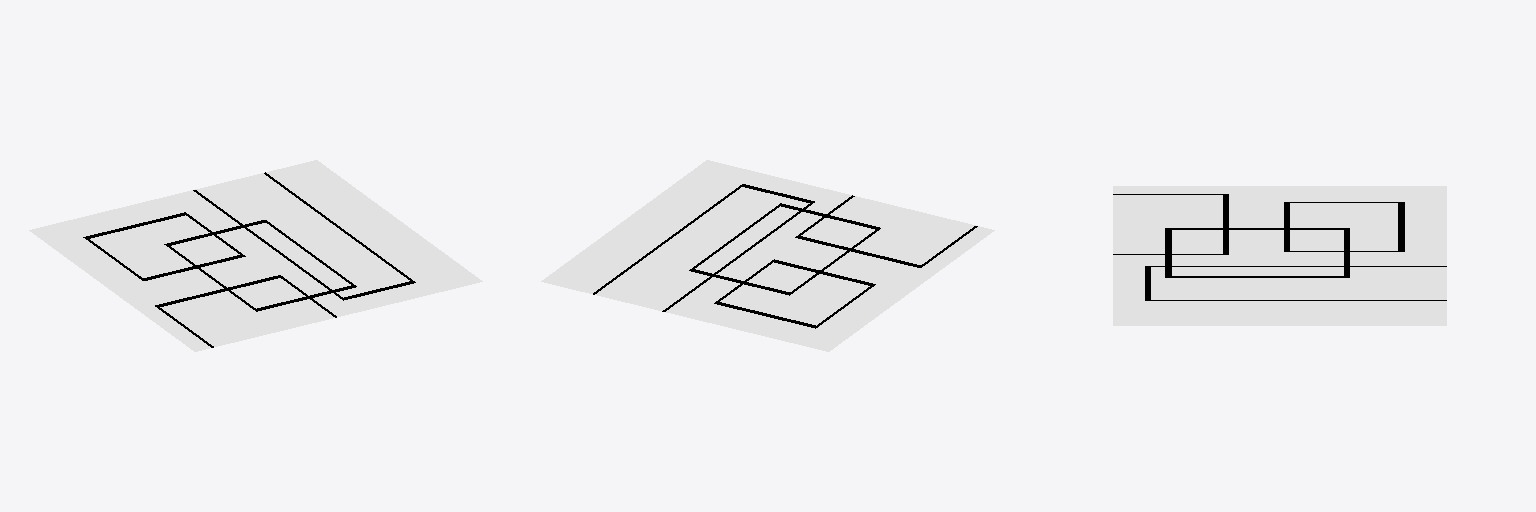
3 renders of one model, left to right at view 1: azimuth 30°, elevation 25°; view 2: azimuth 150°, elevation 25°; view 3: azimuth 270°, elevation 25°, orthographic.
Parts seen in each view (by area): view 1: Plane; view 2: Plane; view 3: Plane.
Part boxes in pixels (left/top/right/bottom): Plane: left=29, top=160, right=482, bottom=351; Plane: left=541, top=160, right=994, bottom=351; Plane: left=1113, top=186, right=1446, bottom=325.
Bounding box in the file's own units: 2 × 0 × 2.
Materials: 1 (1 with a texture image).